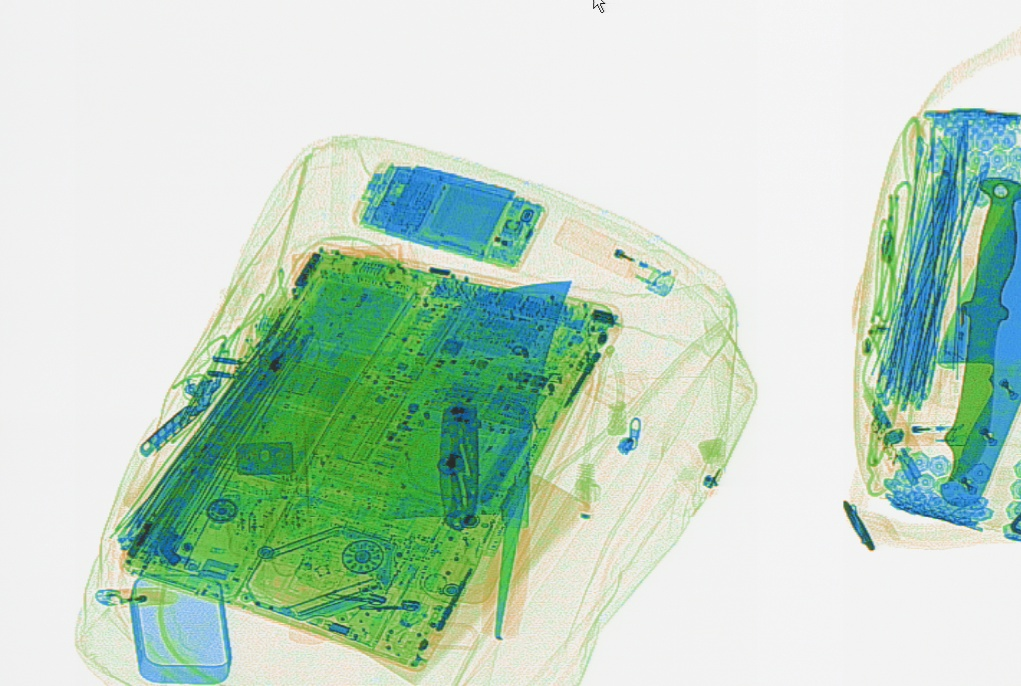knife: (378, 276, 576, 644), (938, 172, 1019, 485), (432, 403, 488, 529)
lighter: (553, 215, 678, 298), (883, 419, 977, 448), (90, 585, 178, 607)
